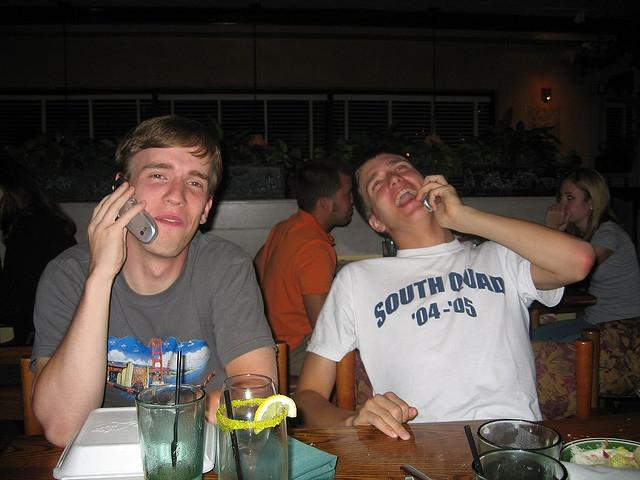lemon: (253, 394, 297, 434)
